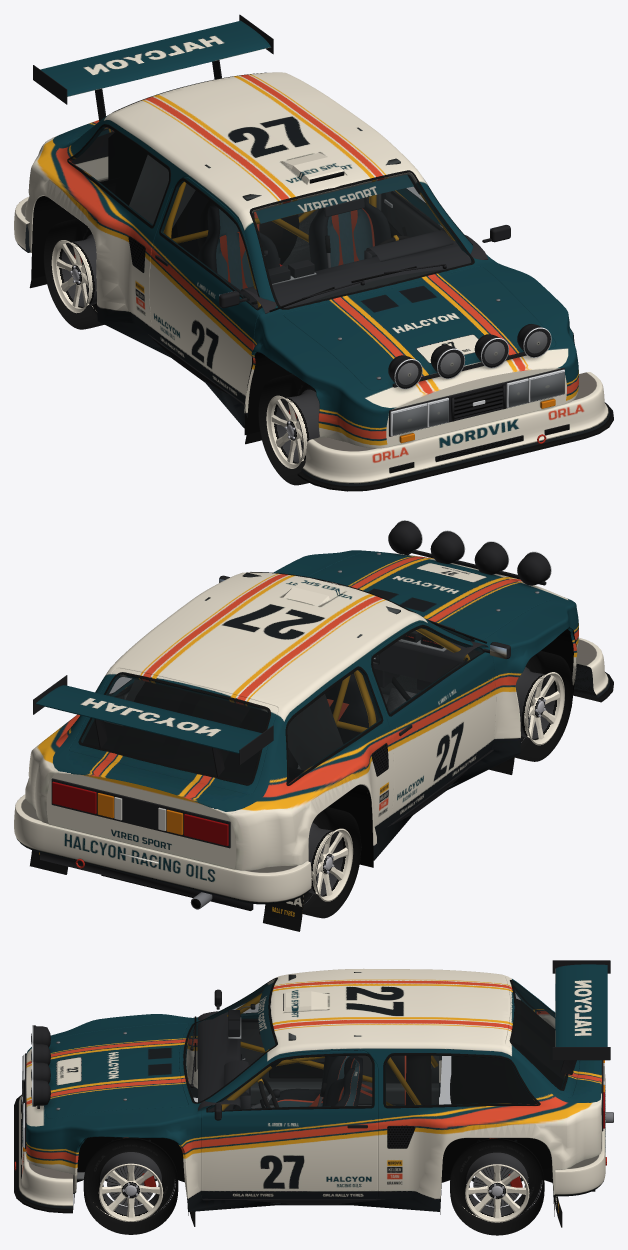
Rendered from vireo-rally.glb.
3 views of the same model, one above another, from view 1: azimuth 30°, elevation 25°; view 2: azimuth 150°, elevation 25°; view 3: azimuth 270°, elevation 25° (orthographic). The views are drawn at different scales.
Parts seen in each view (by area): view 1: body_shell, windscreen, hood_skin, door_r_skin, bumper_front, wing_blade, door_r_glass, wheel_fr, wheel_rr, dash_top, quarter_glass, seat_driver (+21 smaller); view 2: body_shell, door_r_skin, hood_skin, bumper_rear, rear_glass, rear_bay, tail_panel, quarter_glass, wing_blade, wheel_fr, wheel_rr, door_r_glass (+23 smaller); view 3: body_shell, door_l_skin, hood_skin, wheel_rl, wheel_fl, quarter_glass, door_l_glass, windscreen, rear_bay, wing_blade, dash_top, rear_glass (+25 smaller).
Boxes of the visible parts, x1=… form: body_shell: x1=25, y1=72, x2=578, y2=448; windscreen: x1=252, y1=173, x2=471, y2=307; hood_skin: x1=283, y1=266, x2=555, y2=390; door_r_skin: x1=149, y1=177, x2=264, y2=403; bumper_front: x1=301, y1=372, x2=610, y2=486; wing_blade: x1=40, y1=20, x2=270, y2=96; door_r_glass: x1=161, y1=181, x2=260, y2=308; wheel_fr: x1=258, y1=374, x2=319, y2=485; wheel_rr: x1=43, y1=218, x2=104, y2=329; dash_top: x1=240, y1=235, x2=488, y2=313; quarter_glass: x1=70, y1=127, x2=168, y2=224; seat_driver: x1=308, y1=197, x2=391, y2=271; body_shell: x1=25, y1=550, x2=578, y2=870; door_r_skin: x1=371, y1=622, x2=496, y2=822; hood_skin: x1=308, y1=551, x2=555, y2=639; bumper_rear: x1=14, y1=794, x2=311, y2=904; rear_glass: x1=82, y1=675, x2=268, y2=782; rear_bay: x1=113, y1=681, x2=268, y2=782; tail_panel: x1=46, y1=773, x2=236, y2=869; quarter_glass: x1=109, y1=670, x2=380, y2=783; wing_blade: x1=35, y1=685, x2=261, y2=753; wheel_fr: x1=514, y1=651, x2=572, y2=761; wheel_rr: x1=302, y1=807, x2=361, y2=918; door_r_glass: x1=373, y1=628, x2=482, y2=713; body_shell: x1=26, y1=968, x2=601, y2=1211; door_l_skin: x1=201, y1=1050, x2=377, y2=1199; hood_skin: x1=44, y1=1023, x2=188, y2=1118; wheel_rl: x1=450, y1=1138, x2=544, y2=1235; wheel_fl: x1=83, y1=1137, x2=178, y2=1234; quarter_glass: x1=386, y1=988, x2=538, y2=1105; door_l_glass: x1=209, y1=1056, x2=371, y2=1111; windscreen: x1=186, y1=980, x2=275, y2=1101; rear_bay: x1=451, y1=998, x2=564, y2=1104; wing_blade: x1=555, y1=964, x2=607, y2=1046; dash_top: x1=198, y1=1011, x2=240, y2=1111; rear_glass: x1=512, y1=982, x2=565, y2=1088.
Bounding box in the file's own units: 2.07 × 1.38 × 4.13.
Materials: 5 (4 with a texture image).
